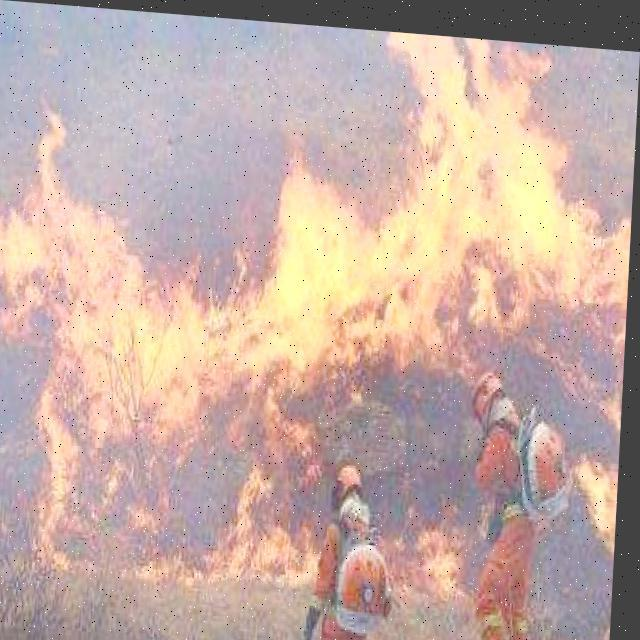Fire: (0, 0, 639, 605)
